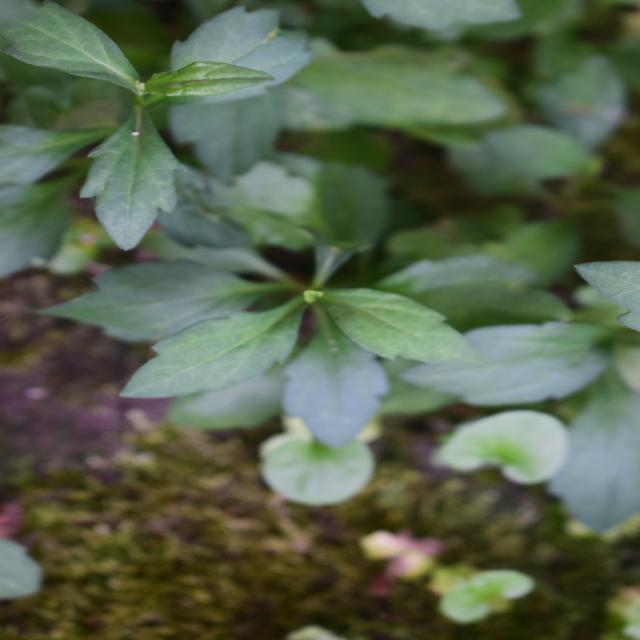Indian aster: (220, 156, 451, 546), (0, 323, 241, 621)
